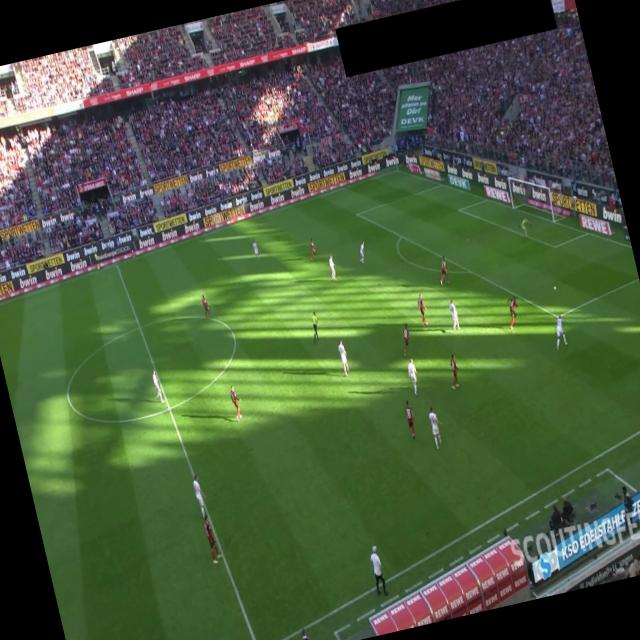ball: (553, 284, 557, 292)
goalkeeper: (516, 214, 534, 238)
player: (202, 512, 222, 564), (426, 404, 448, 450), (190, 472, 211, 520), (549, 314, 570, 351), (404, 356, 422, 396), (402, 398, 419, 440), (444, 352, 462, 390), (504, 296, 524, 330), (228, 383, 244, 422), (336, 338, 352, 377), (396, 322, 414, 356), (434, 254, 452, 286), (148, 368, 164, 403), (414, 292, 430, 326), (446, 298, 461, 331), (326, 254, 338, 282), (200, 293, 212, 319), (356, 240, 368, 264), (306, 237, 318, 260), (251, 238, 261, 261)
referee: (306, 309, 322, 343), (91, 247, 102, 271)
